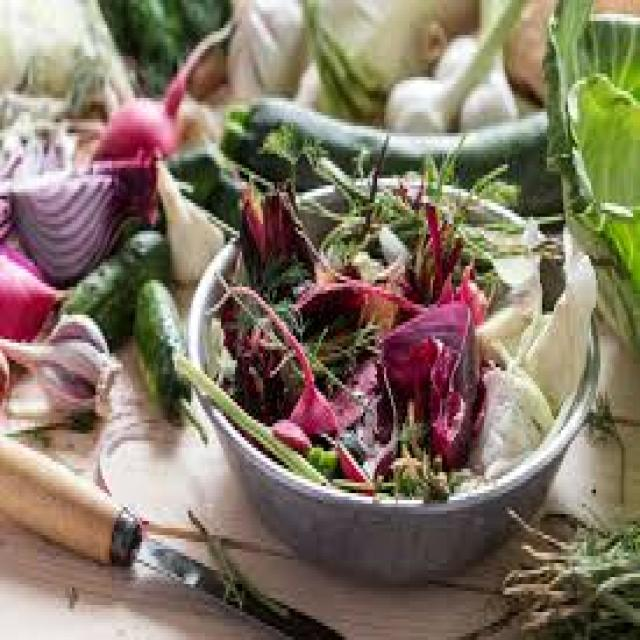Organik: (0, 52, 640, 556), (206, 136, 534, 465)
